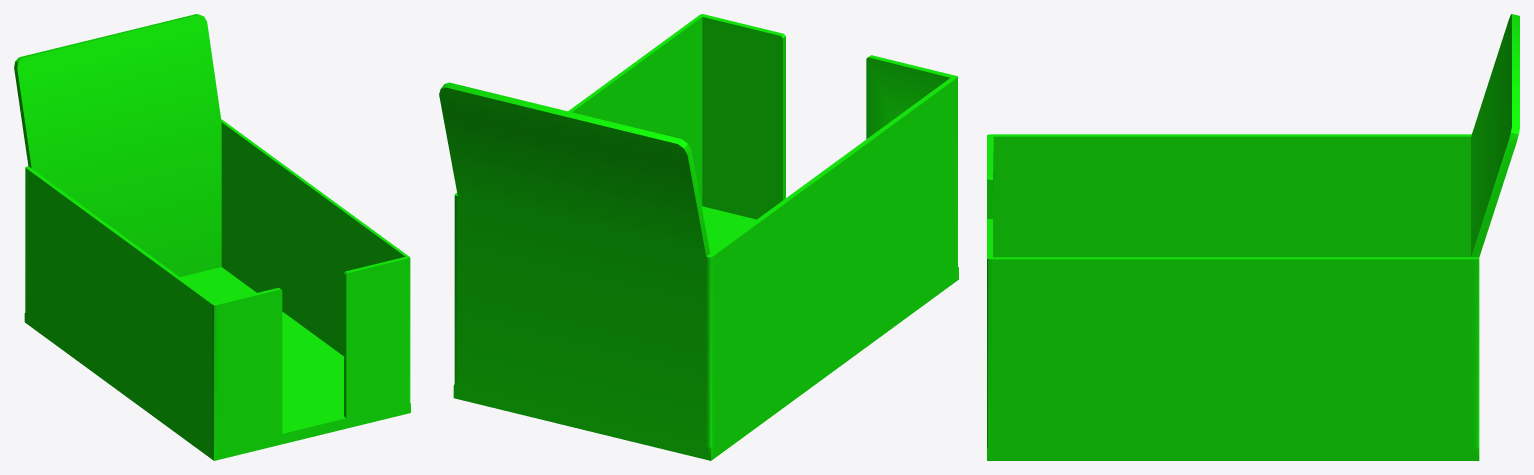
The picture shows the model from 3 angles, left to right: view 1: azimuth 30°, elevation 25°; view 2: azimuth 150°, elevation 25°; view 3: azimuth 270°, elevation 25°; orthographic projection. The views are drawn at different scales.
Visible parts, largest first — view 1: Small Box; view 2: Small Box; view 3: Small Box.
Part boxes in pixels (box(x1,y1,x2,y2)): Small Box: box(14, 14, 410, 460); Small Box: box(439, 14, 958, 460); Small Box: box(987, 14, 1519, 460).
Bounding box in the file's own units: 9.73 × 11.94 × 17.55.
